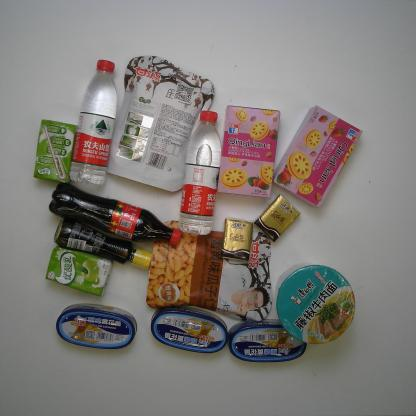Canned Food: (52, 300, 138, 351), (148, 305, 228, 356), (228, 317, 307, 364)
Dessert: (274, 102, 365, 210), (218, 102, 283, 201)
Dried Fruit: (107, 53, 218, 195), (145, 218, 274, 320)
Drink: (48, 182, 182, 248), (69, 55, 121, 189), (176, 109, 224, 237)
Instant Noodles: (274, 261, 357, 347)
Milk: (43, 246, 113, 298), (31, 116, 78, 185)
Seasoner: (51, 217, 154, 273)
Tissue: (255, 194, 302, 243), (221, 216, 254, 263)
